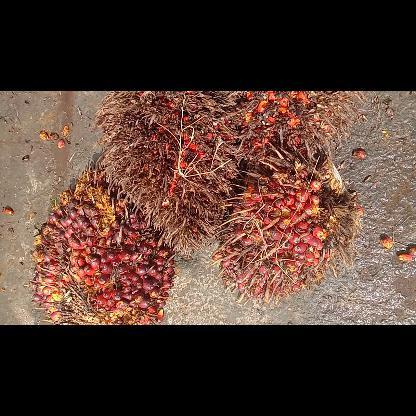TBS masak: (210, 143, 360, 307), (30, 160, 180, 324)
Terlalu masak: (91, 91, 241, 257), (232, 91, 364, 169)
